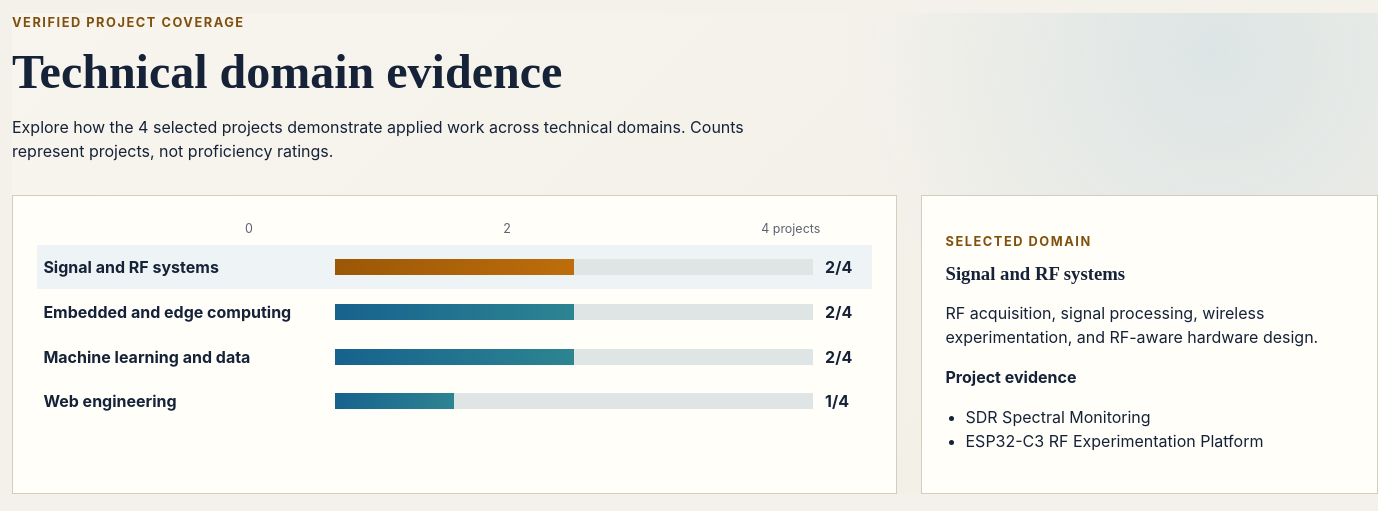
Test: ProjectEvidence › exposes chart values and updates supporting evidence from the keyboard
Expected: the number of elements named "2 of 4 projects" is 3, [825,257,852,277]; [825,302,852,322]; [825,347,852,367]
Click the button "Machine learning and data 2/4" at x=454, y=357, box [37,334,872,379]
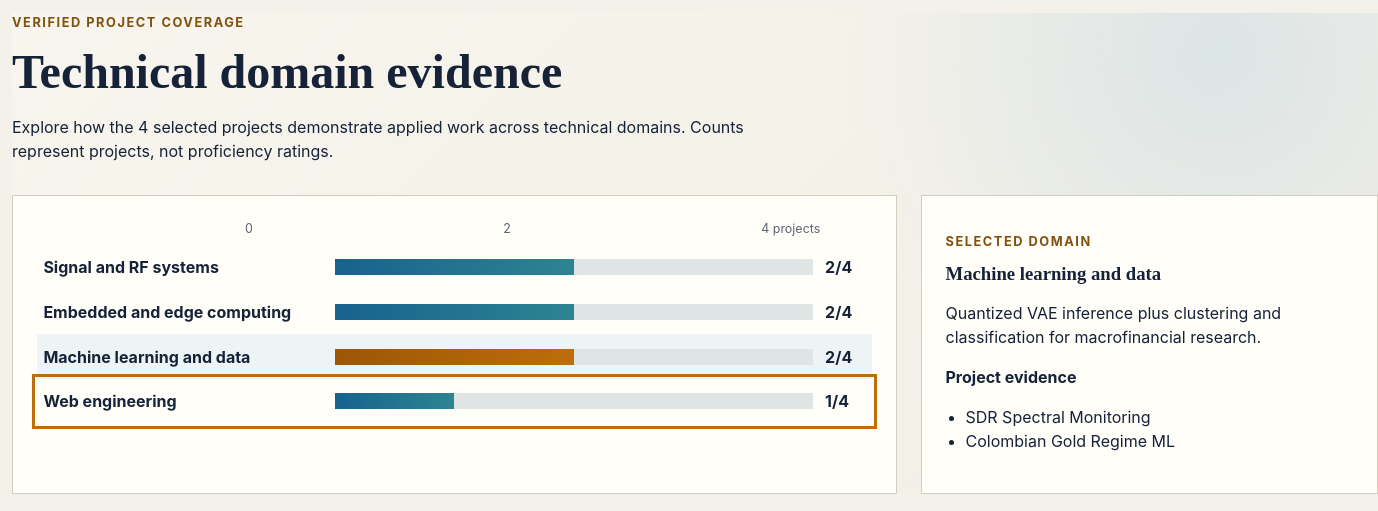
Expected: the button "Machine learning and data 2/4" is pressed, [37,334,872,379]
Press Enter
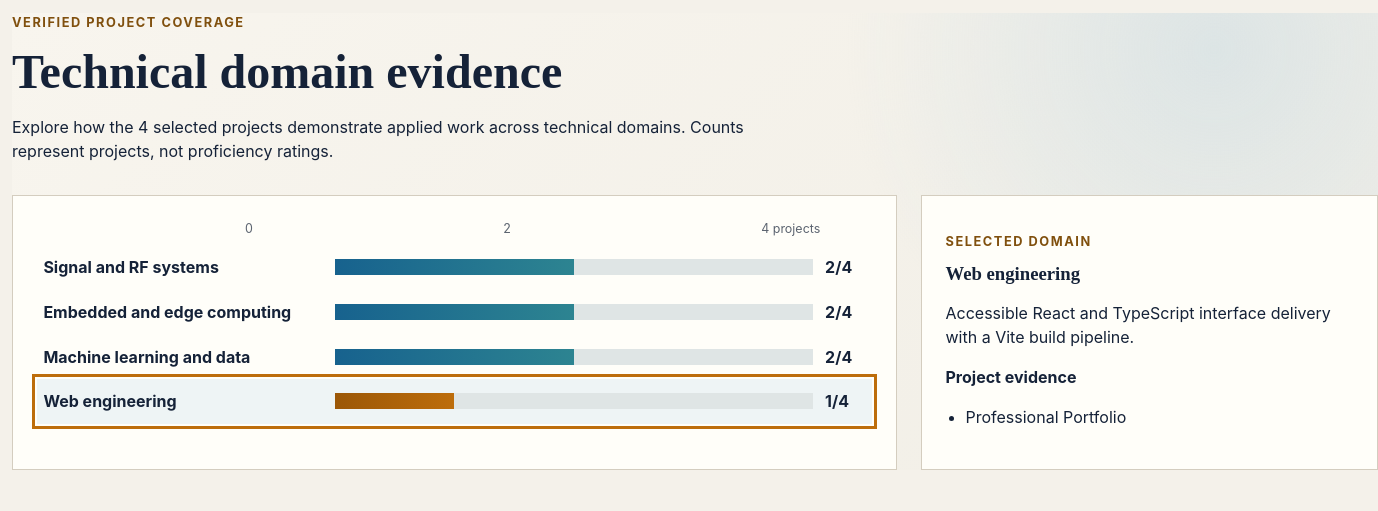
Expected: the text "Accessible React and TypeScript interface delivery with a Vite build pipeline." is shown, [946,301,1353,349]
